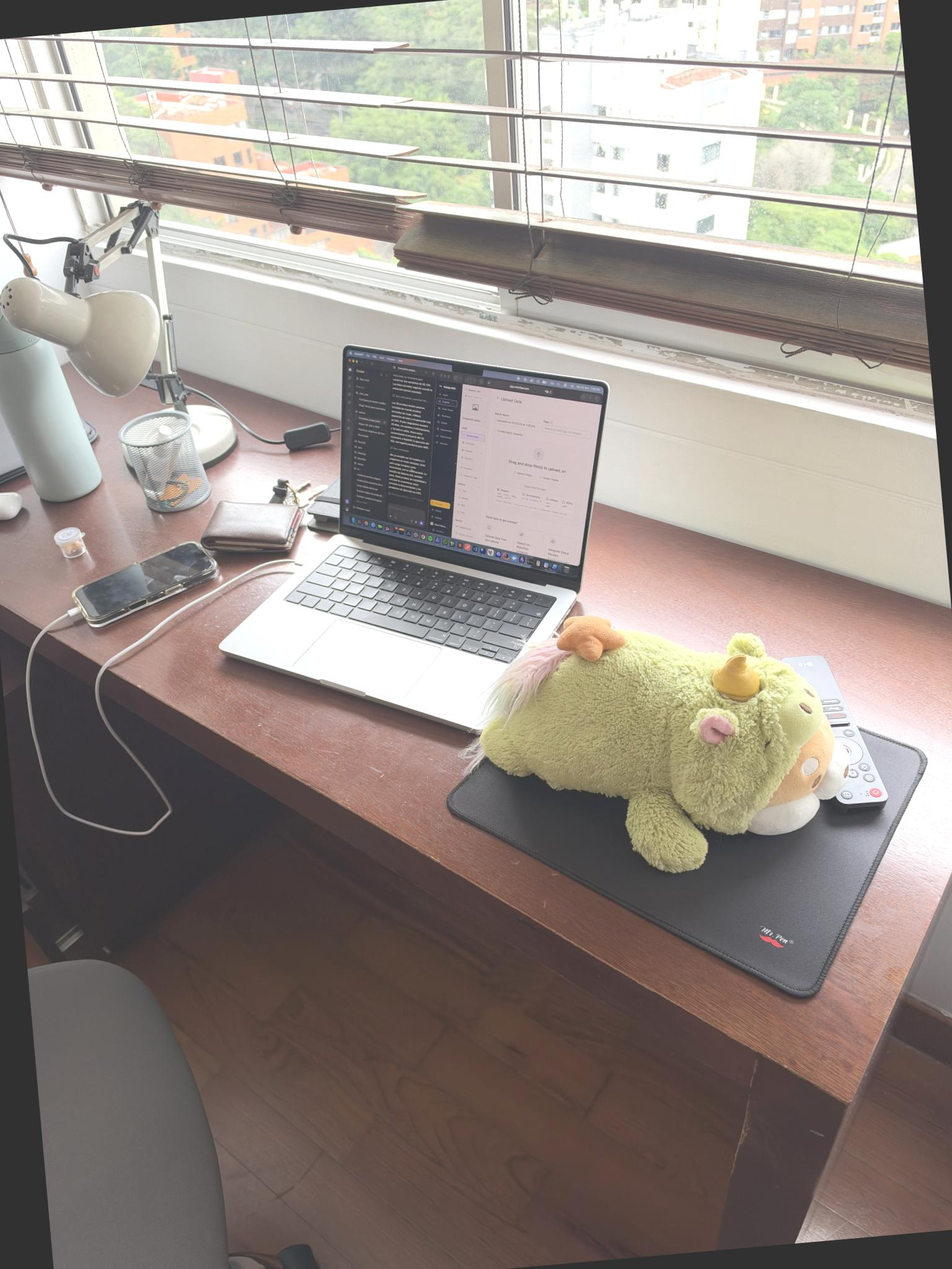peluche_martin: (469, 592, 860, 889)
